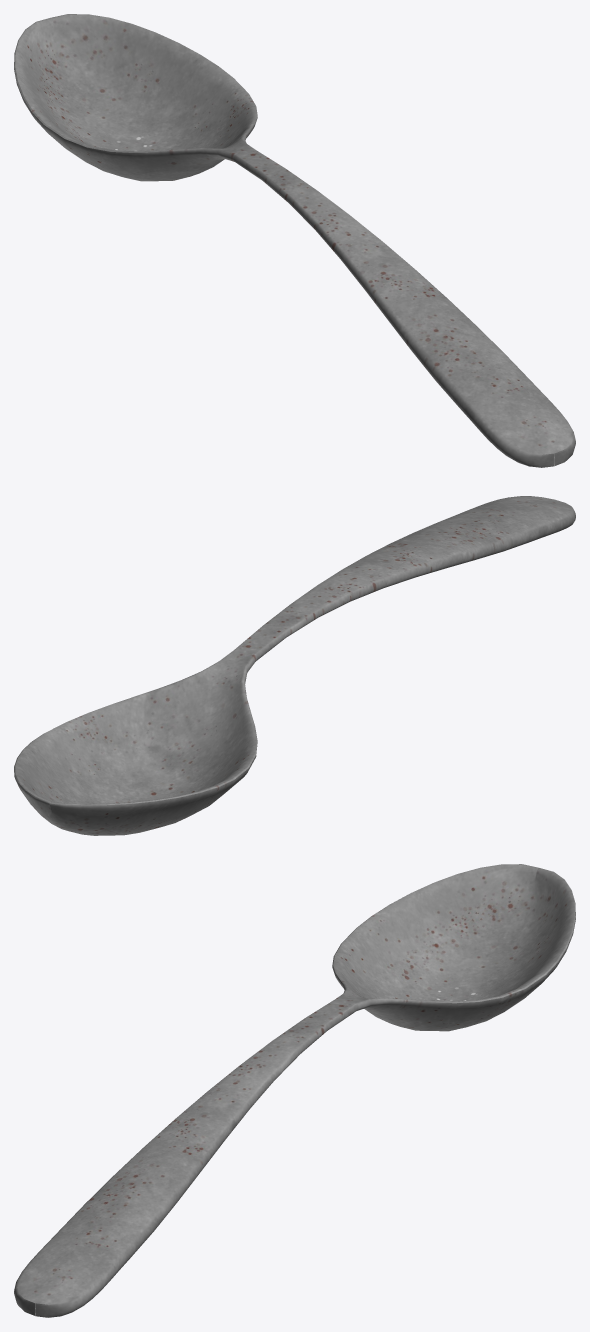
The model's file is old_spoon.glb.
3 renders of one model, top to bottom at view 1: azimuth 30°, elevation 25°; view 2: azimuth 150°, elevation 25°; view 3: azimuth 330°, elevation 25°, orthographic.
Visible parts, largest first — view 1: Object_2; view 2: Object_2; view 3: Object_2.
Part boxes in pixels (x1,y1,x2,y2): Object_2: (14, 14, 575, 467); Object_2: (14, 496, 575, 835); Object_2: (14, 864, 575, 1317).
Size of the model in its own units: 1.73 by 0.7911 by 7.98.
Materials: 1 (1 with a texture image).
